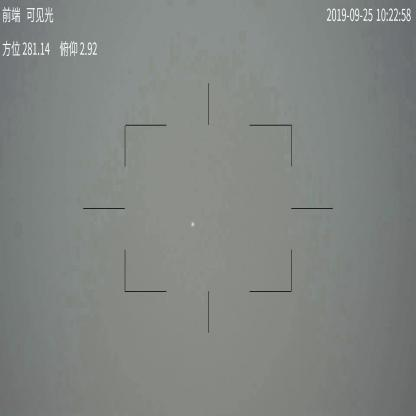uav: (190, 219, 196, 228)
